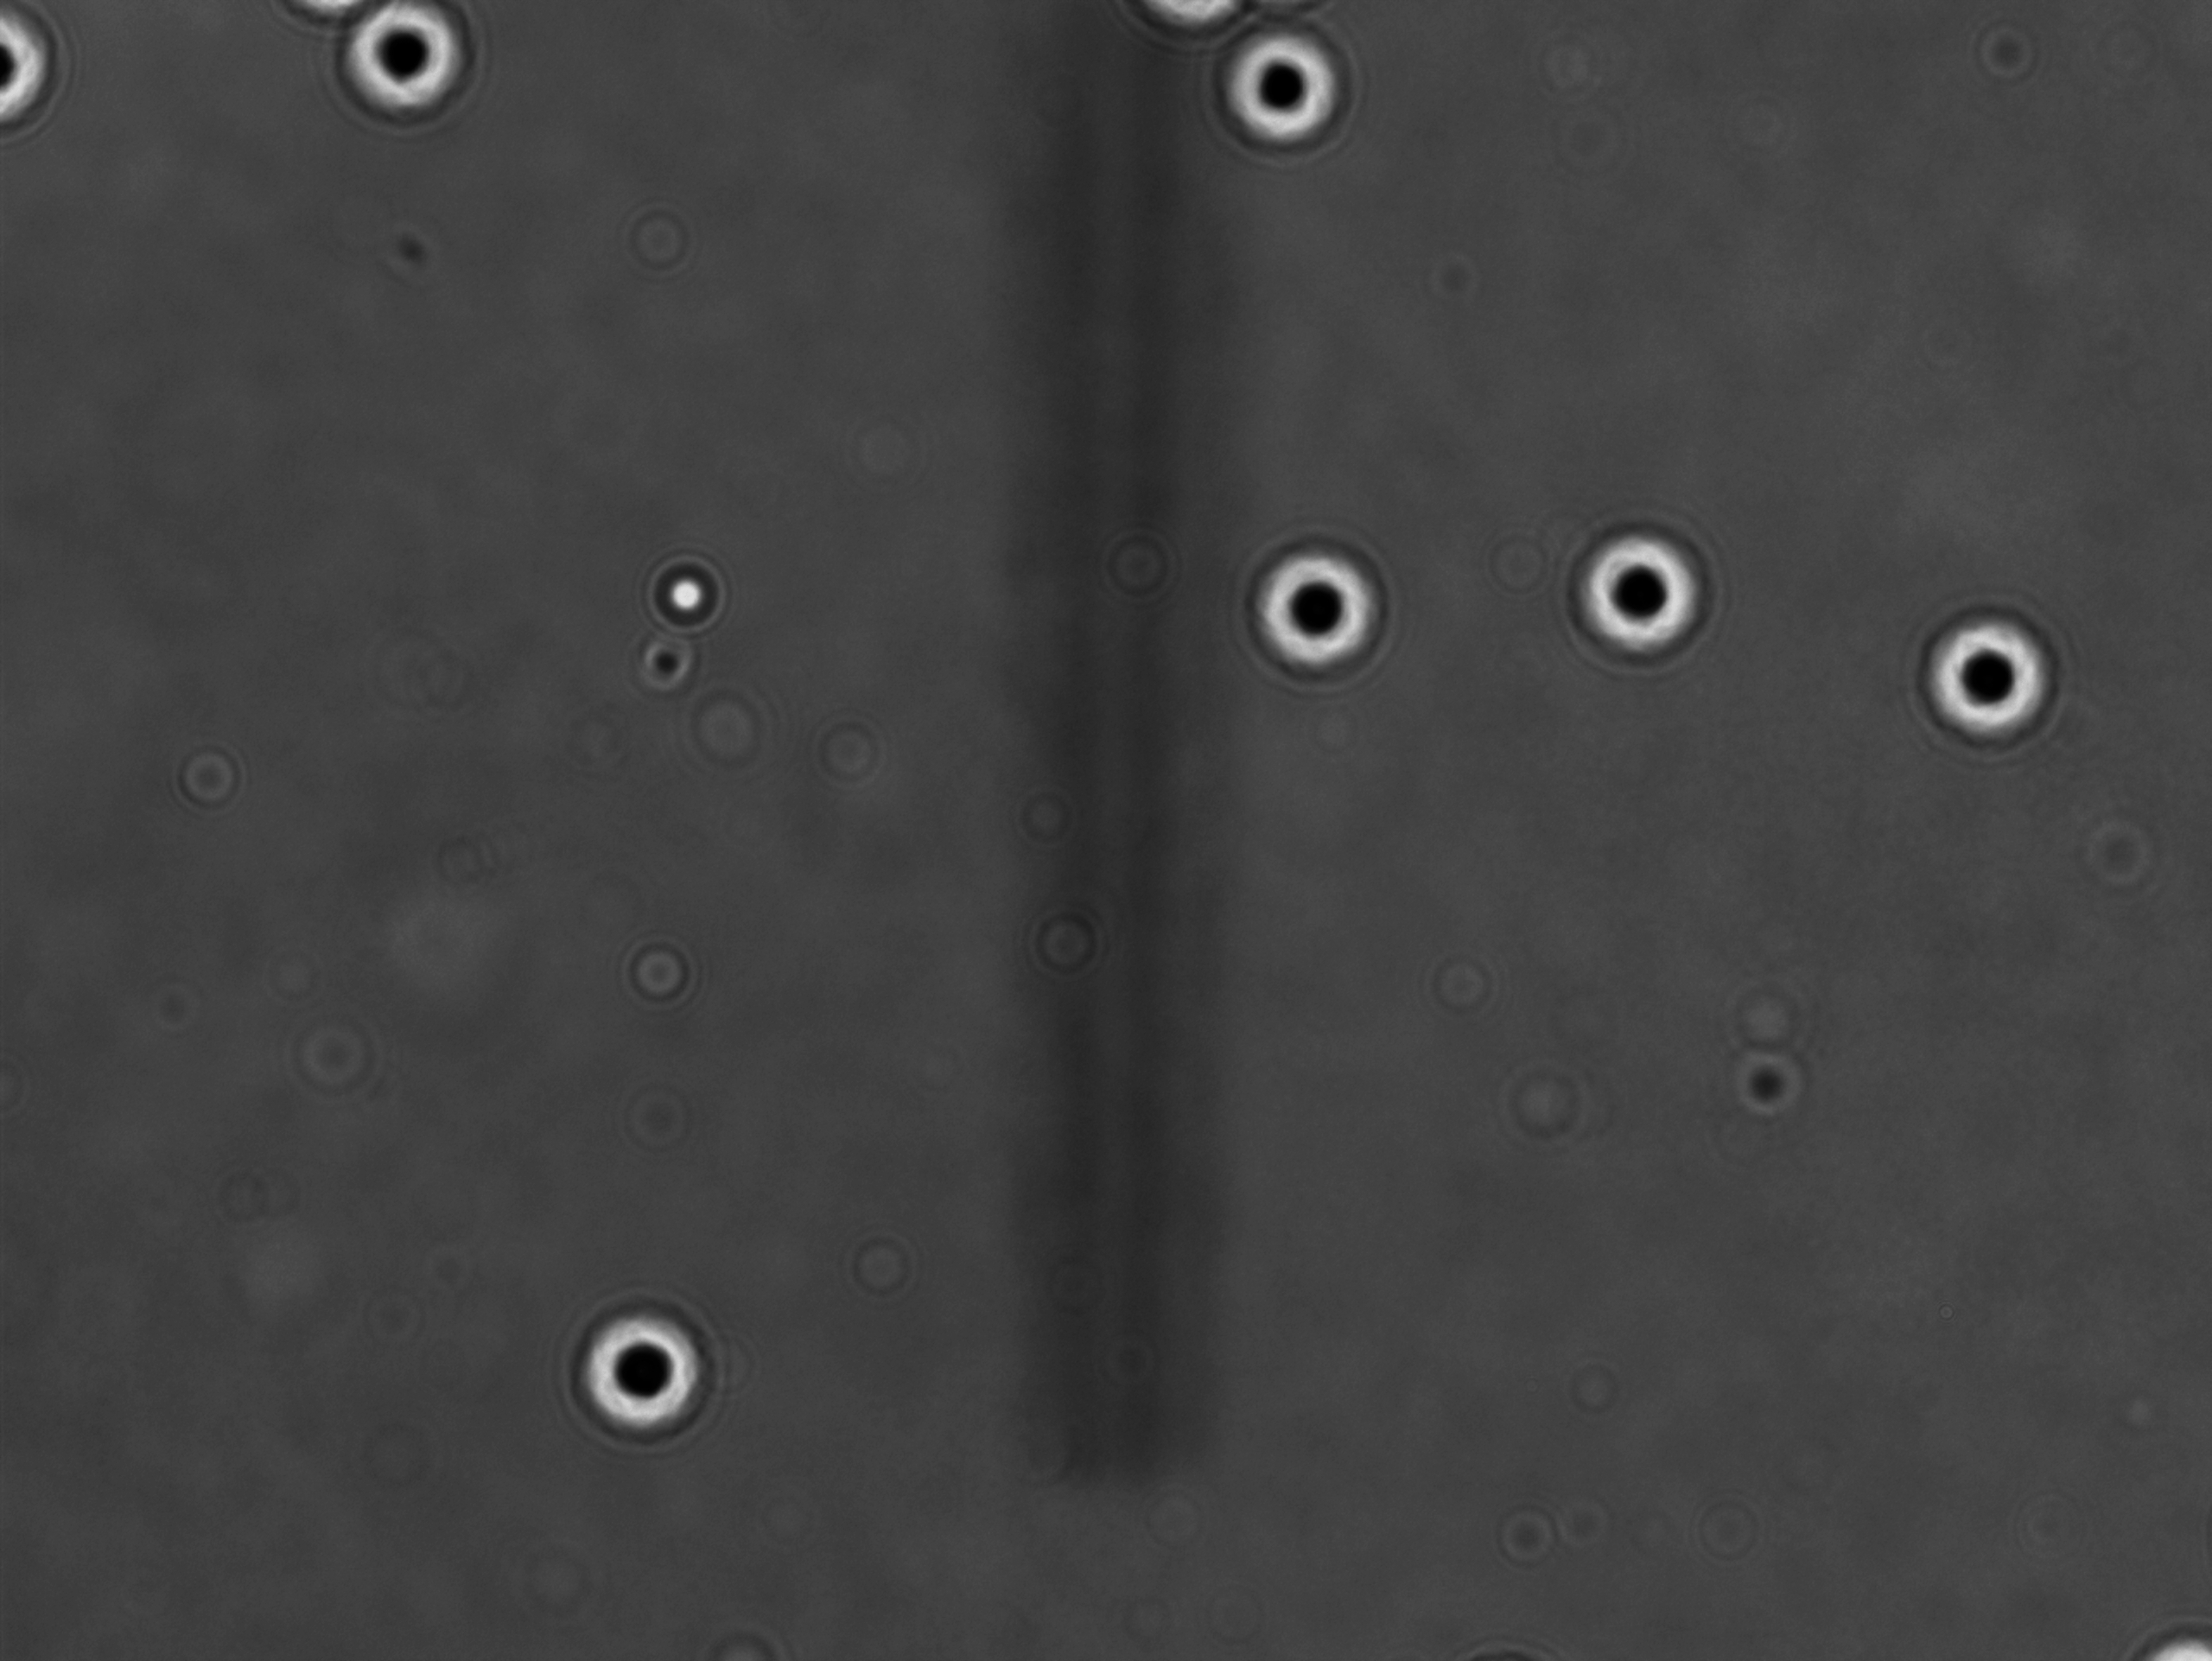depth:-20: (1903, 600, 2086, 769), (553, 1282, 720, 1452), (1235, 525, 1408, 689), (1563, 508, 1727, 675), (1195, 5, 1364, 167)
